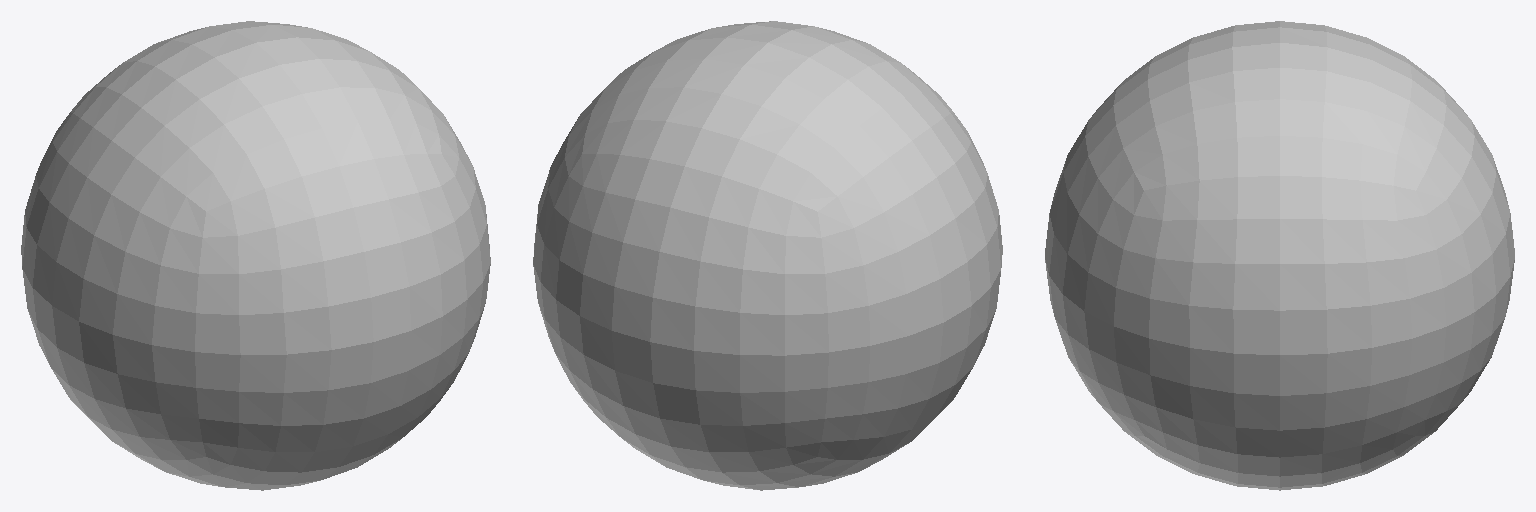
Rendered from bulb.obj.
The picture shows the model from 3 angles: view 1: azimuth 30°, elevation 25°; view 2: azimuth 150°, elevation 25°; view 3: azimuth 270°, elevation 25°; orthographic projection.
Parts seen in each view (by area): view 1: bulb; view 2: bulb; view 3: bulb.
Part boxes in pixels (left/top/right/bottom): bulb: left=21, top=21, right=490, bottom=490; bulb: left=533, top=21, right=1002, bottom=490; bulb: left=1045, top=21, right=1514, bottom=490.
Size of the model in its own units: 0.1 by 0.1 by 0.1.